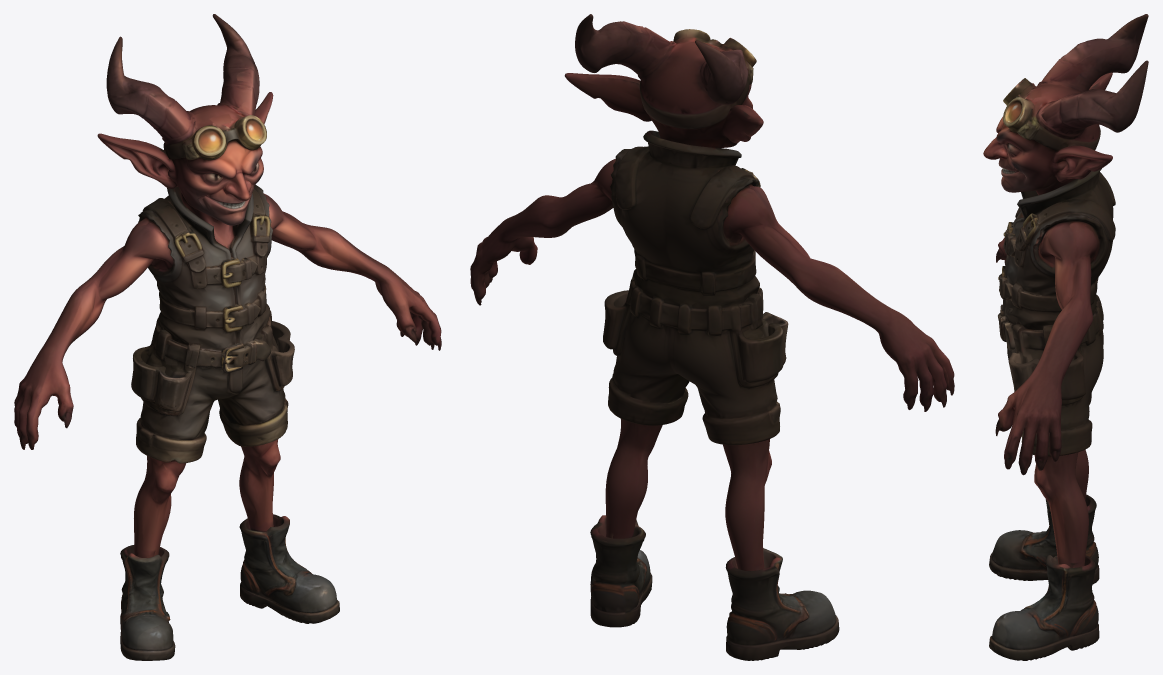
The picture shows the model from 3 angles, left to right: view 1: azimuth 30°, elevation 25°; view 2: azimuth 150°, elevation 25°; view 3: azimuth 270°, elevation 25°; orthographic projection. The views are drawn at different scales.
Parts seen in each view (by area): view 1: Mesh_0; view 2: Mesh_0; view 3: Mesh_0.
Part boxes in pixels (bbox=[...]): Mesh_0: bbox=[14, 14, 441, 660]; Mesh_0: bbox=[470, 14, 954, 660]; Mesh_0: bbox=[983, 14, 1148, 660].
Bounding box in the file's own units: 0.859 × 1.11 × 0.2911.
Materials: 1 (1 with a texture image).
